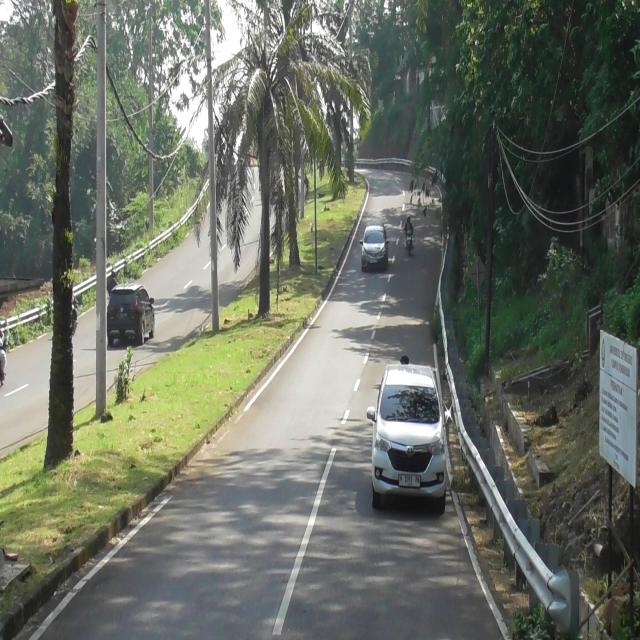motorcycle: (406, 229, 414, 255)
person: (402, 213, 414, 231), (109, 268, 118, 290)
rider_region: (402, 212, 416, 258)
